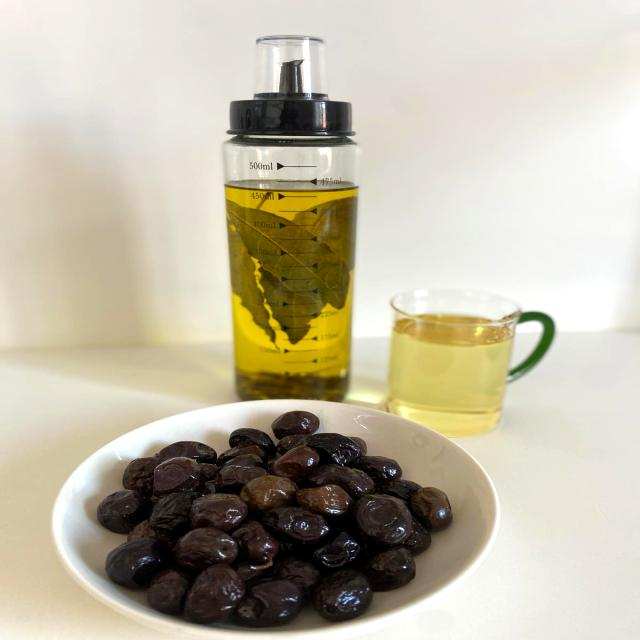olive: (347, 490, 432, 554), (181, 558, 255, 627), (97, 531, 179, 589), (308, 565, 380, 620), (267, 502, 337, 548), (179, 490, 248, 533)
olive oil: (207, 98, 385, 404), (396, 299, 511, 429)
